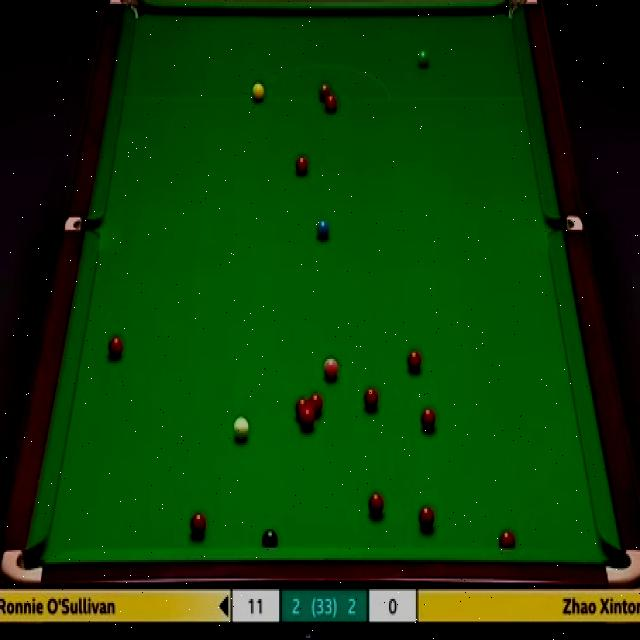black-ball: (262, 529, 278, 548)
blue-ball: (316, 218, 330, 242)
brown-ball: (317, 80, 331, 104)
green-ball: (414, 50, 430, 69)
pink-ball: (323, 353, 339, 381)
red-ball: (106, 334, 125, 362), (406, 348, 423, 377), (190, 511, 207, 538), (418, 505, 434, 533), (368, 491, 384, 518), (420, 405, 436, 431), (293, 152, 310, 176), (363, 387, 378, 412), (309, 393, 323, 419), (499, 529, 516, 549), (301, 410, 314, 431), (296, 398, 308, 418), (325, 95, 337, 114)
white-ball: (232, 413, 250, 448)
yellow-ball: (251, 81, 264, 101)
